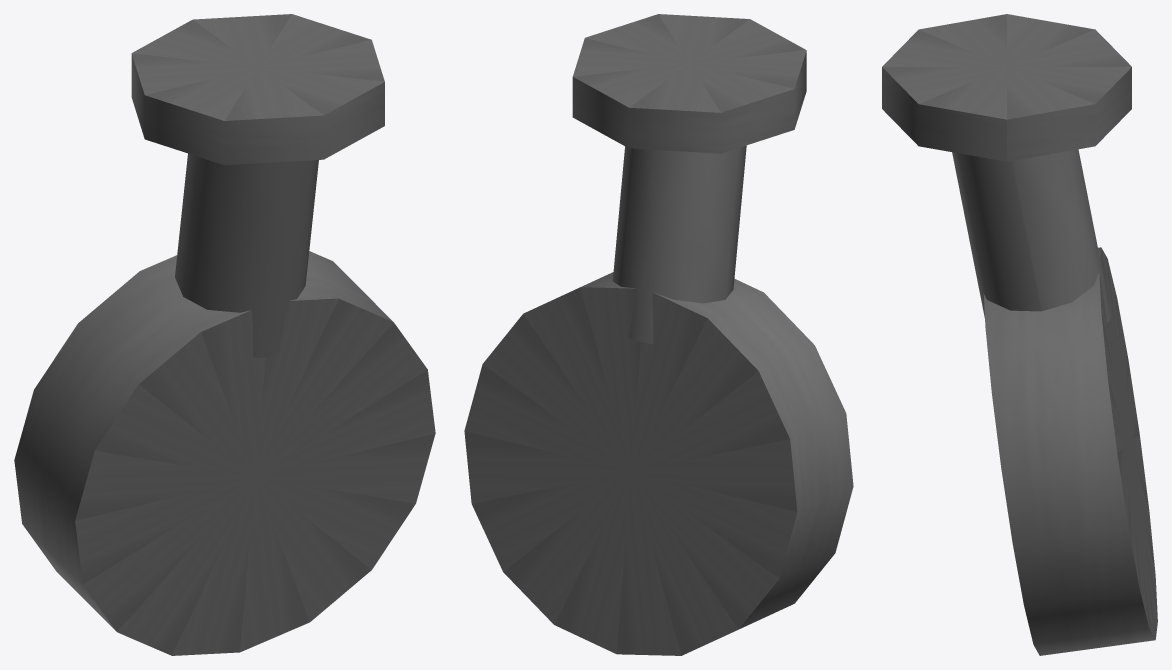
Rendered from mastarmcurve_8x2_c7_up.obj.
The picture shows the model from 3 angles, left to right: view 1: azimuth 30°, elevation 25°; view 2: azimuth 150°, elevation 25°; view 3: azimuth 270°, elevation 25°; orthographic projection. The views are drawn at different scales.
Visible parts, largest first — view 1: mastarm_8x2_c7_up; view 2: mastarm_8x2_c7_up; view 3: mastarm_8x2_c7_up.
Part boxes in pixels (x1,y1,x2,y2): mastarm_8x2_c7_up: (14, 14, 435, 655); mastarm_8x2_c7_up: (464, 14, 853, 655); mastarm_8x2_c7_up: (882, 14, 1157, 655).
Size of the model in its own units: 0.635 by 1.01 by 0.4413.
